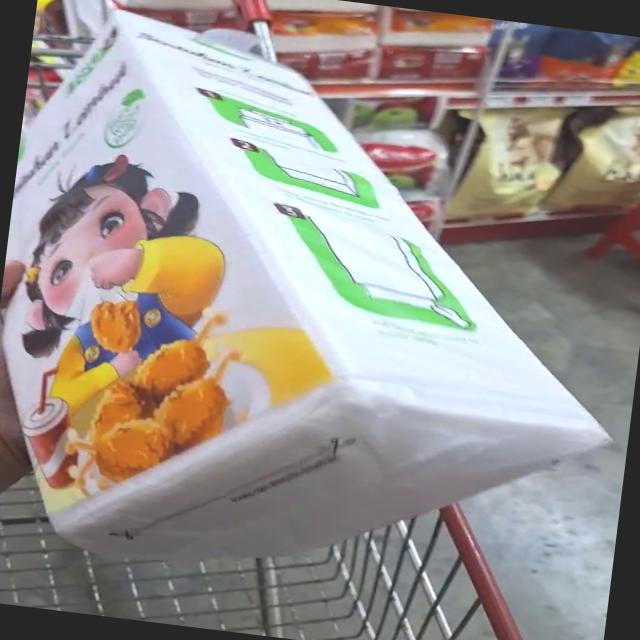Tisu: (0, 215, 640, 589), (10, 4, 429, 270)
